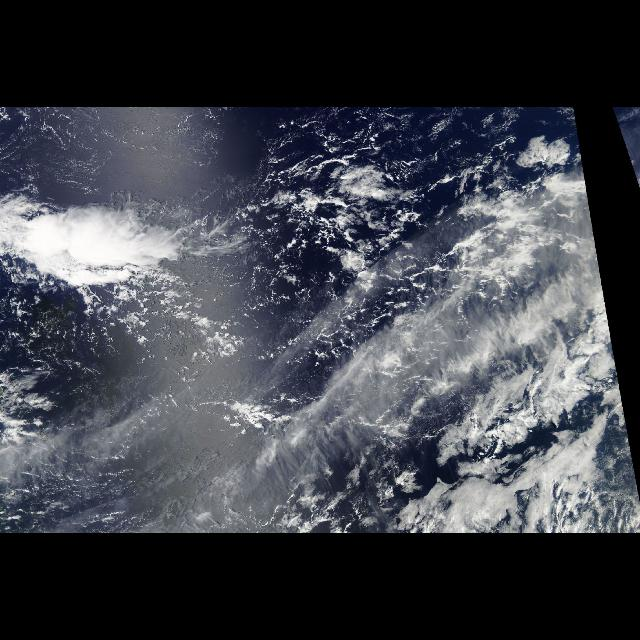Gravel: (8, 117, 440, 510)
Sugar: (3, 108, 229, 194)
